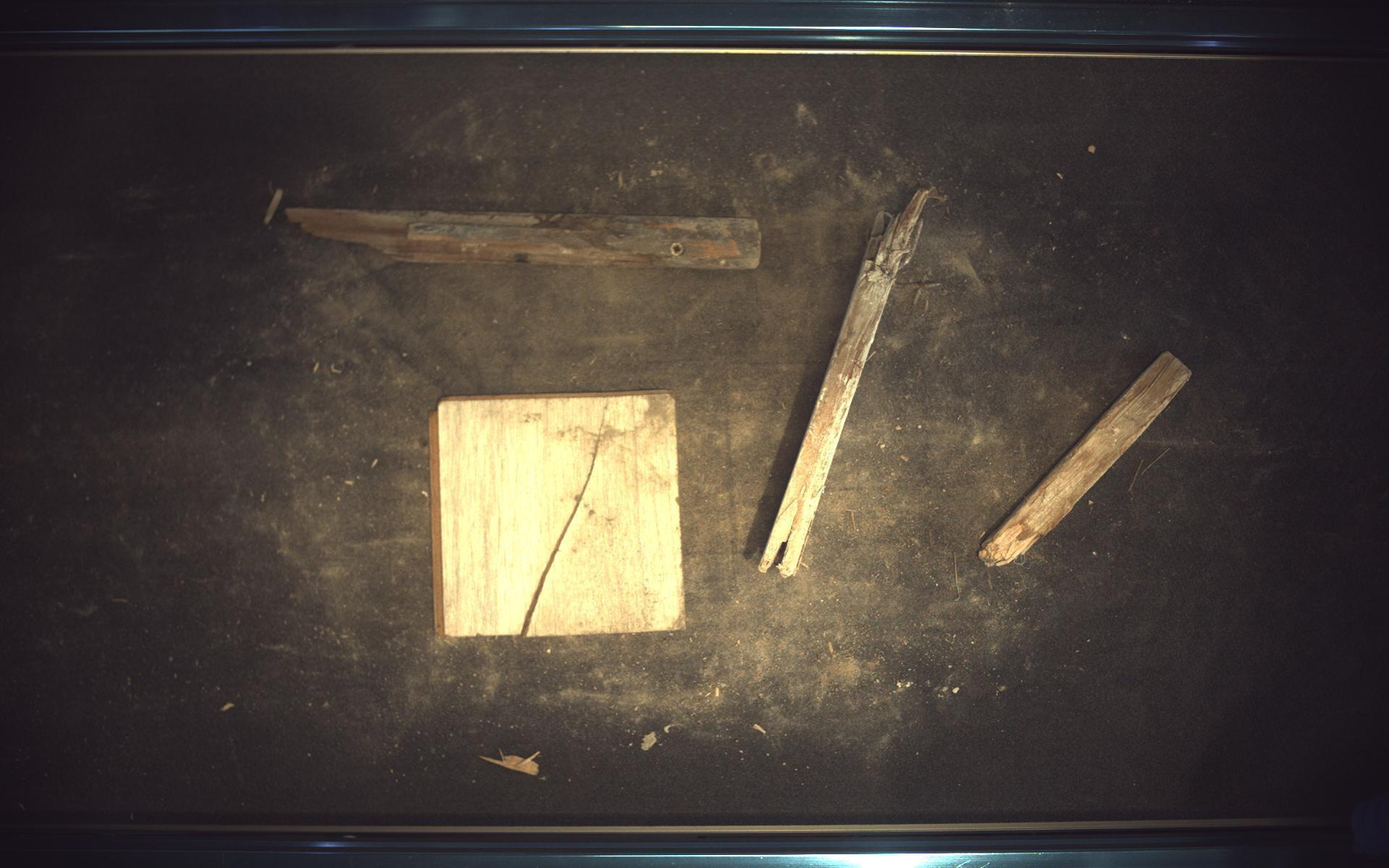wood: (760, 187, 938, 577), (430, 391, 685, 637), (981, 352, 1194, 567), (286, 207, 763, 269)
